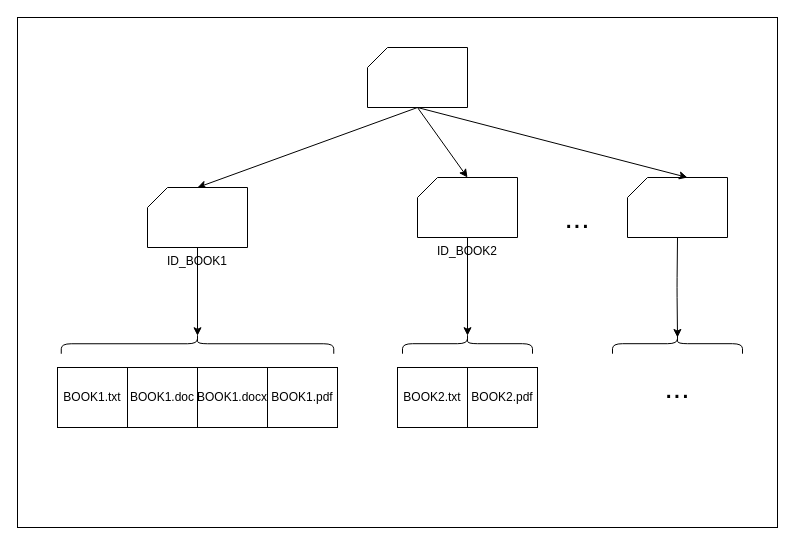
This 795x545 diagram has some shape labels left out. The shapes that lost their labels are listed below. From the top down, each one's centre as x and y in pixels, then its label:
At (x=417, y=77): "BOOKS".
At (x=677, y=207): "ID_BOOKn".
